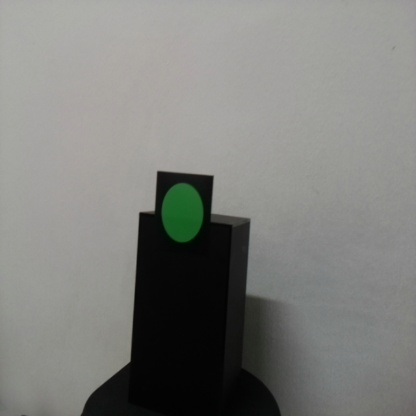id_5: (156, 172, 213, 260)
